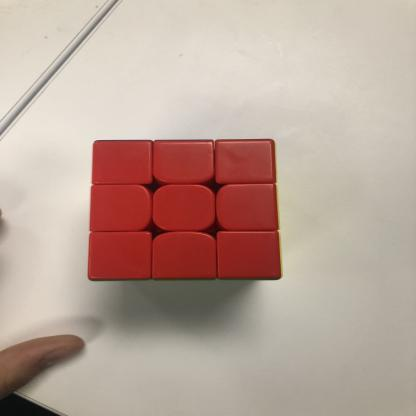SolvedCube: (90, 140, 282, 282)
